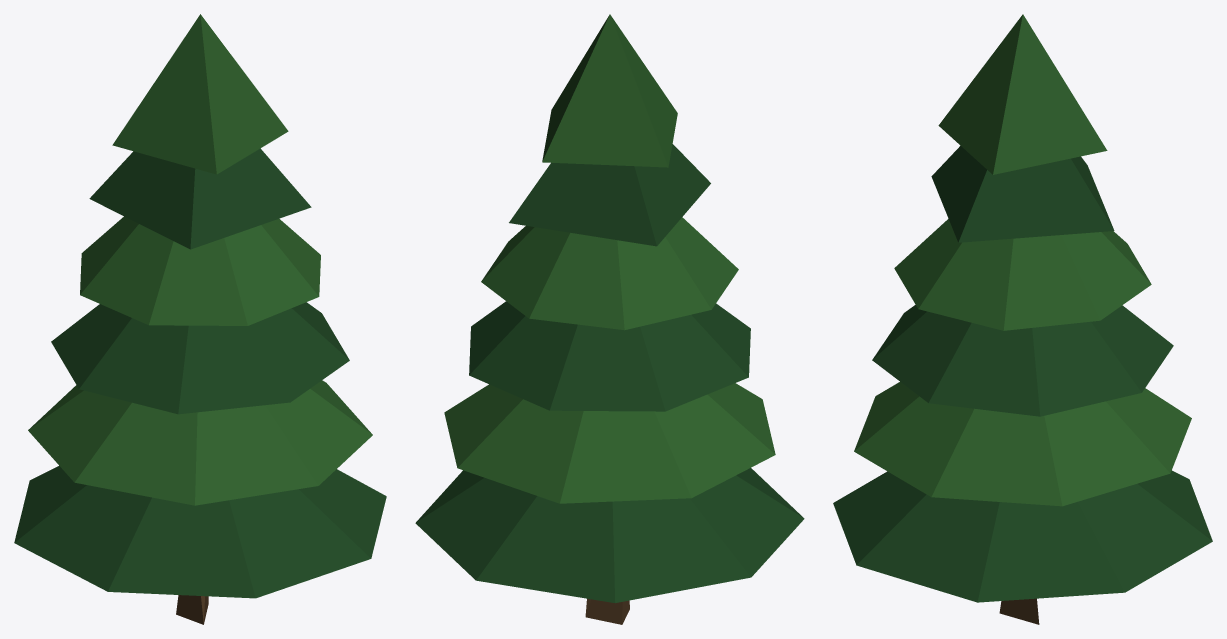
Rendered from tree_pine_2_lod1.glb.
3 renders of one model, left to right at view 1: azimuth 30°, elevation 25°; view 2: azimuth 150°, elevation 25°; view 3: azimuth 270°, elevation 25°, orthographic.
Parts seen in each view (by area): view 1: tree_pine_2_lod1; view 2: tree_pine_2_lod1; view 3: tree_pine_2_lod1.
Part boxes in pixels (box(x1,y1,x2,y2)): tree_pine_2_lod1: box(14, 14, 386, 624); tree_pine_2_lod1: box(415, 14, 804, 624); tree_pine_2_lod1: box(833, 14, 1212, 624).
Size of the model in its own units: 5.41 by 9.48 by 5.41.
